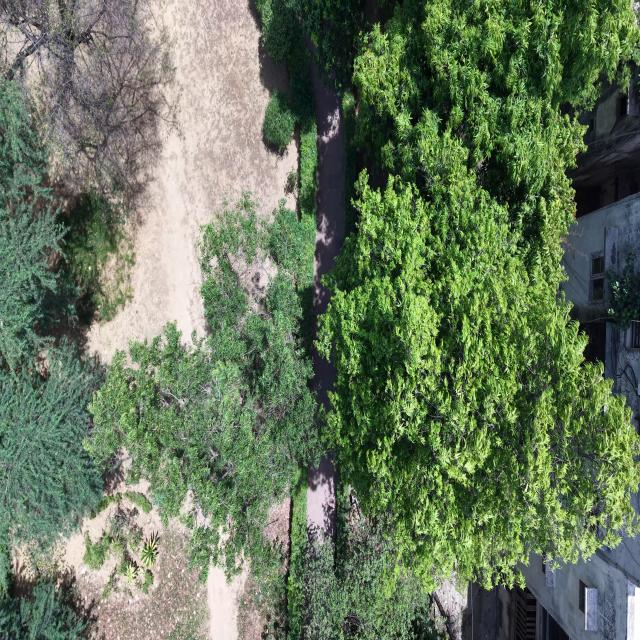DRY_AREA: (86, 0, 297, 363), (86, 0, 297, 362), (87, 0, 297, 361), (55, 458, 264, 639), (38, 459, 241, 639), (64, 504, 210, 639), (311, 64, 345, 337), (311, 65, 345, 336)
VEGETATION_TREE: (0, 0, 639, 639), (0, 2, 317, 604), (319, 0, 639, 585), (324, 3, 637, 581), (322, 175, 638, 582), (0, 0, 172, 548), (86, 193, 317, 597), (0, 3, 127, 549), (354, 0, 636, 240), (0, 80, 127, 546), (0, 80, 103, 639), (0, 0, 174, 324), (0, 81, 102, 558), (0, 81, 102, 546), (0, 0, 174, 198), (287, 473, 439, 638), (301, 488, 444, 639), (257, 0, 317, 356), (0, 342, 102, 546), (0, 81, 63, 371), (199, 192, 315, 330), (78, 523, 210, 639), (257, 0, 317, 223), (257, 0, 317, 218), (238, 466, 308, 638), (0, 200, 62, 371), (58, 190, 134, 325), (0, 531, 86, 639), (257, 0, 314, 128), (83, 503, 158, 598), (288, 0, 365, 92), (0, 81, 47, 204), (289, 37, 318, 227), (0, 580, 86, 639), (265, 200, 315, 291), (84, 505, 142, 570), (287, 470, 308, 639), (606, 250, 639, 339), (256, 0, 301, 65), (288, 27, 315, 135), (608, 251, 639, 330), (342, 90, 357, 237), (263, 90, 296, 154), (299, 119, 317, 228), (299, 117, 317, 219), (83, 532, 110, 570), (168, 614, 207, 639), (0, 523, 13, 594), (90, 493, 121, 519), (140, 533, 159, 568), (124, 491, 152, 513), (284, 167, 300, 195), (123, 561, 138, 586), (141, 569, 153, 594)
